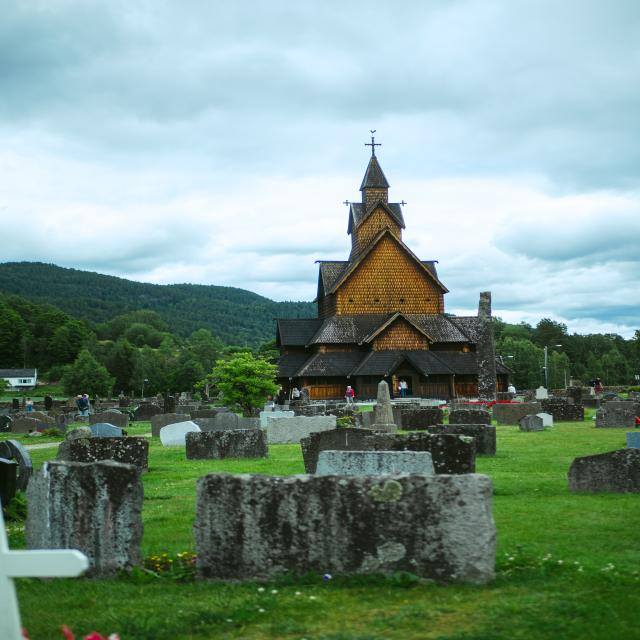building: (276, 152, 509, 396)
